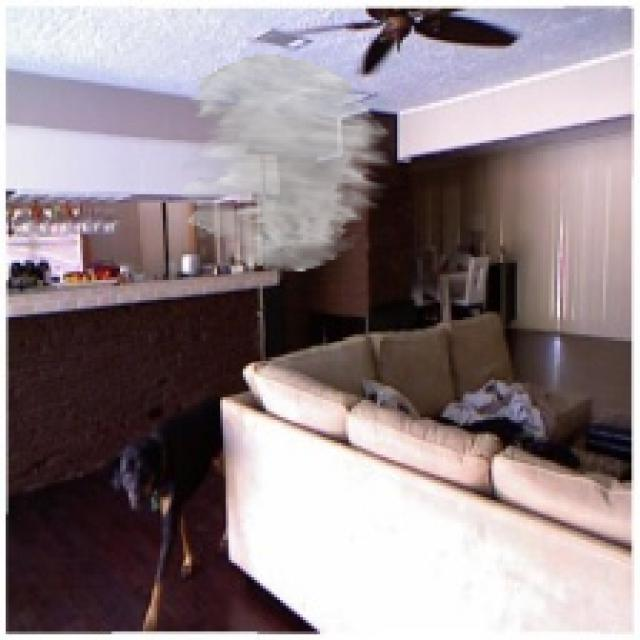smoke: (180, 55, 391, 272)
